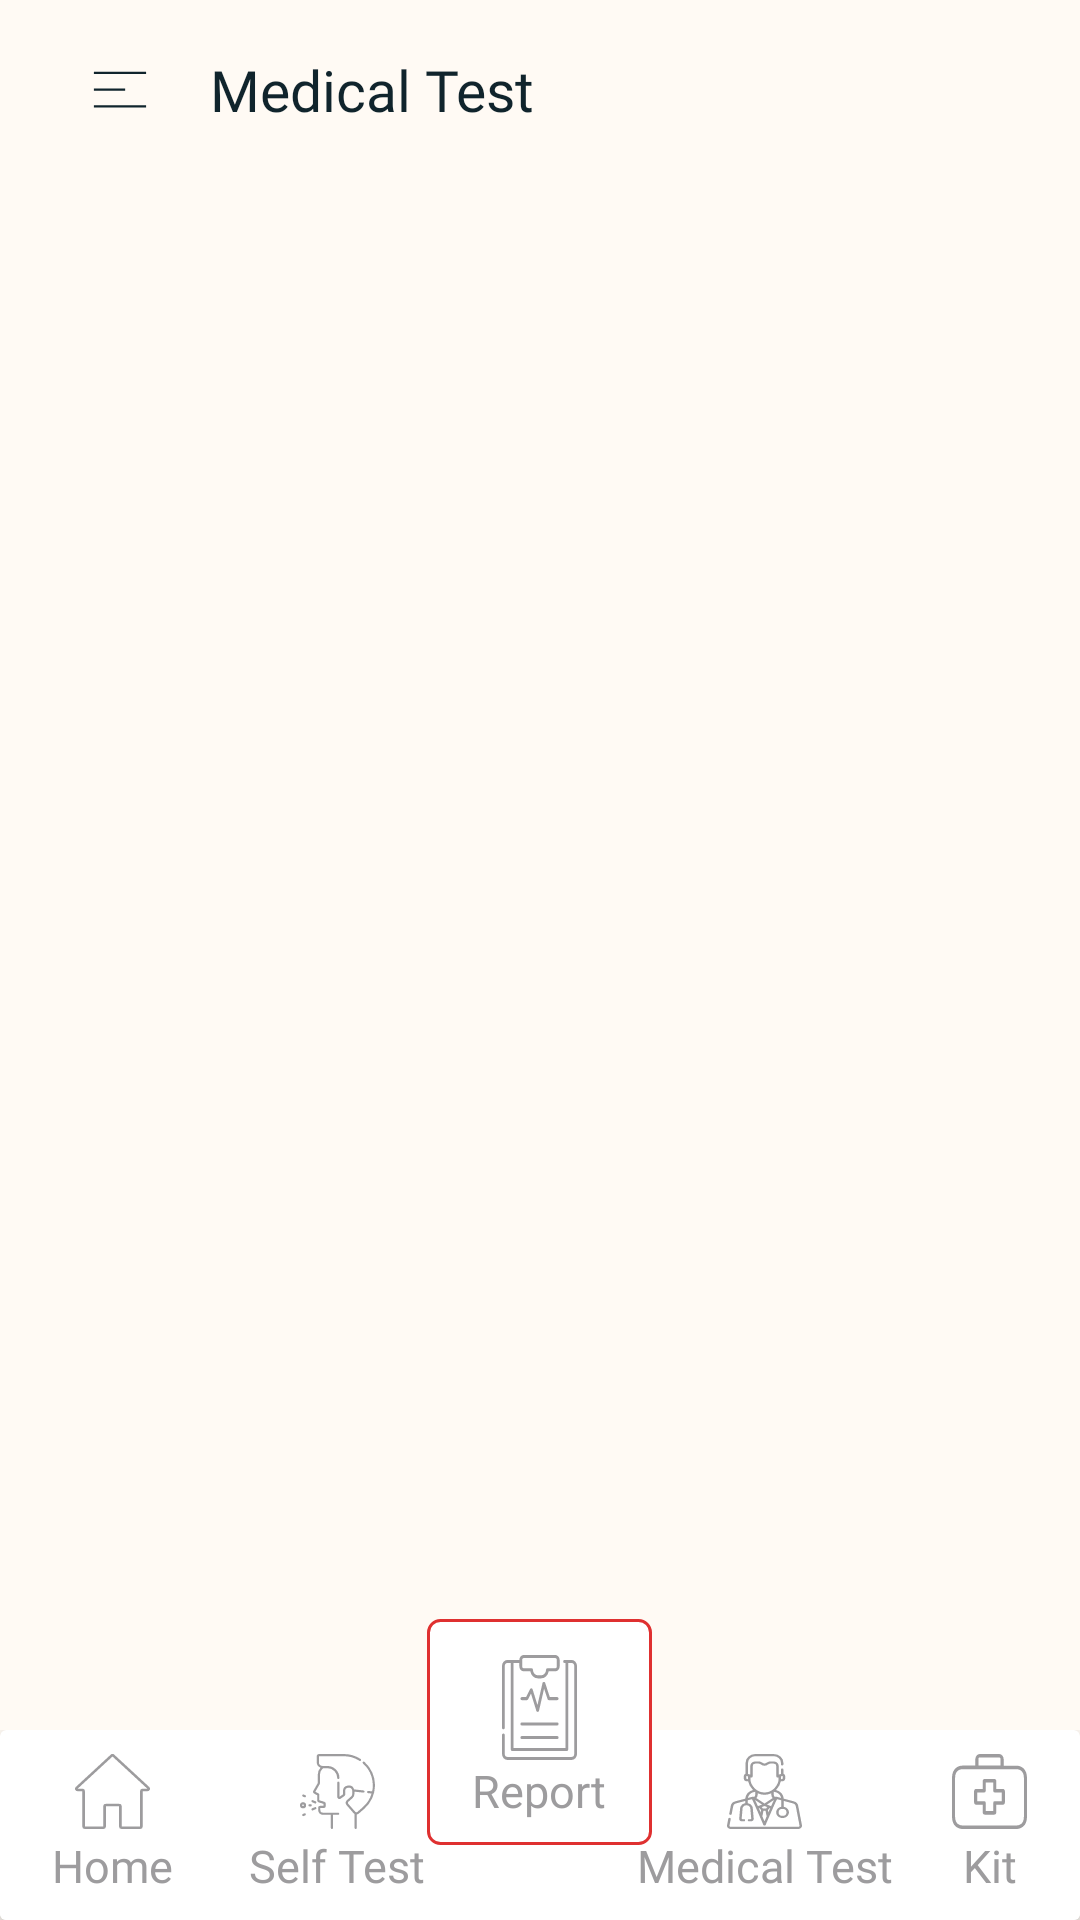

Icons on this 1080 × 1920 Android screen, each with the point to tap as (x,y):
clipboard: (539,1707)
cough: (337,1791)
doctor: (764,1791)
